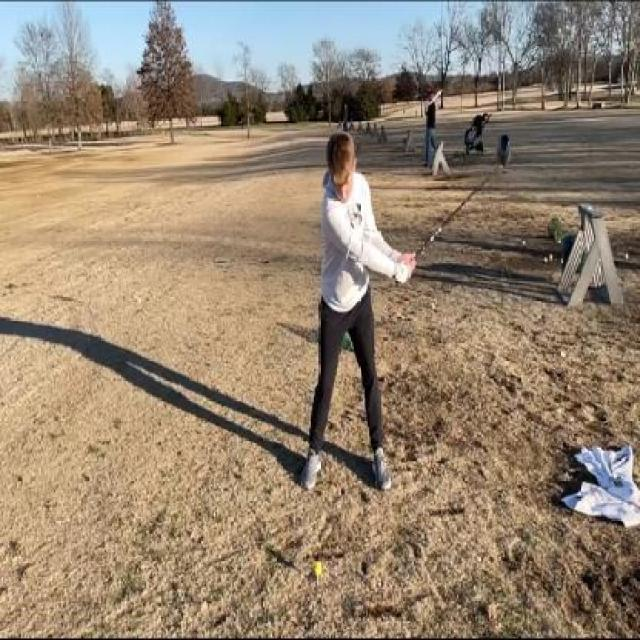club head: (496, 131, 512, 174)
